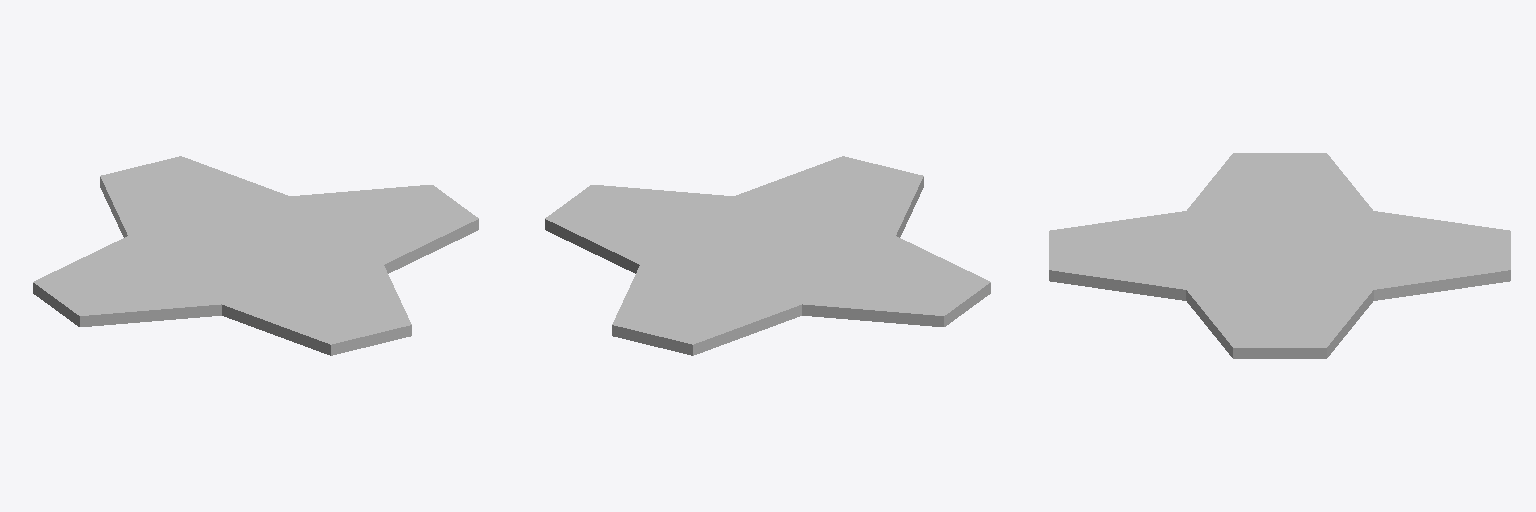
The model's file is platform.obj.
The picture shows the model from 3 angles: view 1: azimuth 30°, elevation 25°; view 2: azimuth 150°, elevation 25°; view 3: azimuth 270°, elevation 25°; orthographic projection.
Parts seen in each view (by area): view 1: Cube.001; view 2: Cube.001; view 3: Cube.001.
Part boxes in pixels (bbox=[...]): Cube.001: bbox=[33, 156, 478, 355]; Cube.001: bbox=[545, 156, 990, 355]; Cube.001: bbox=[1049, 153, 1510, 358].
Size of the model in its own units: 49.51 by 1.33 by 49.51.